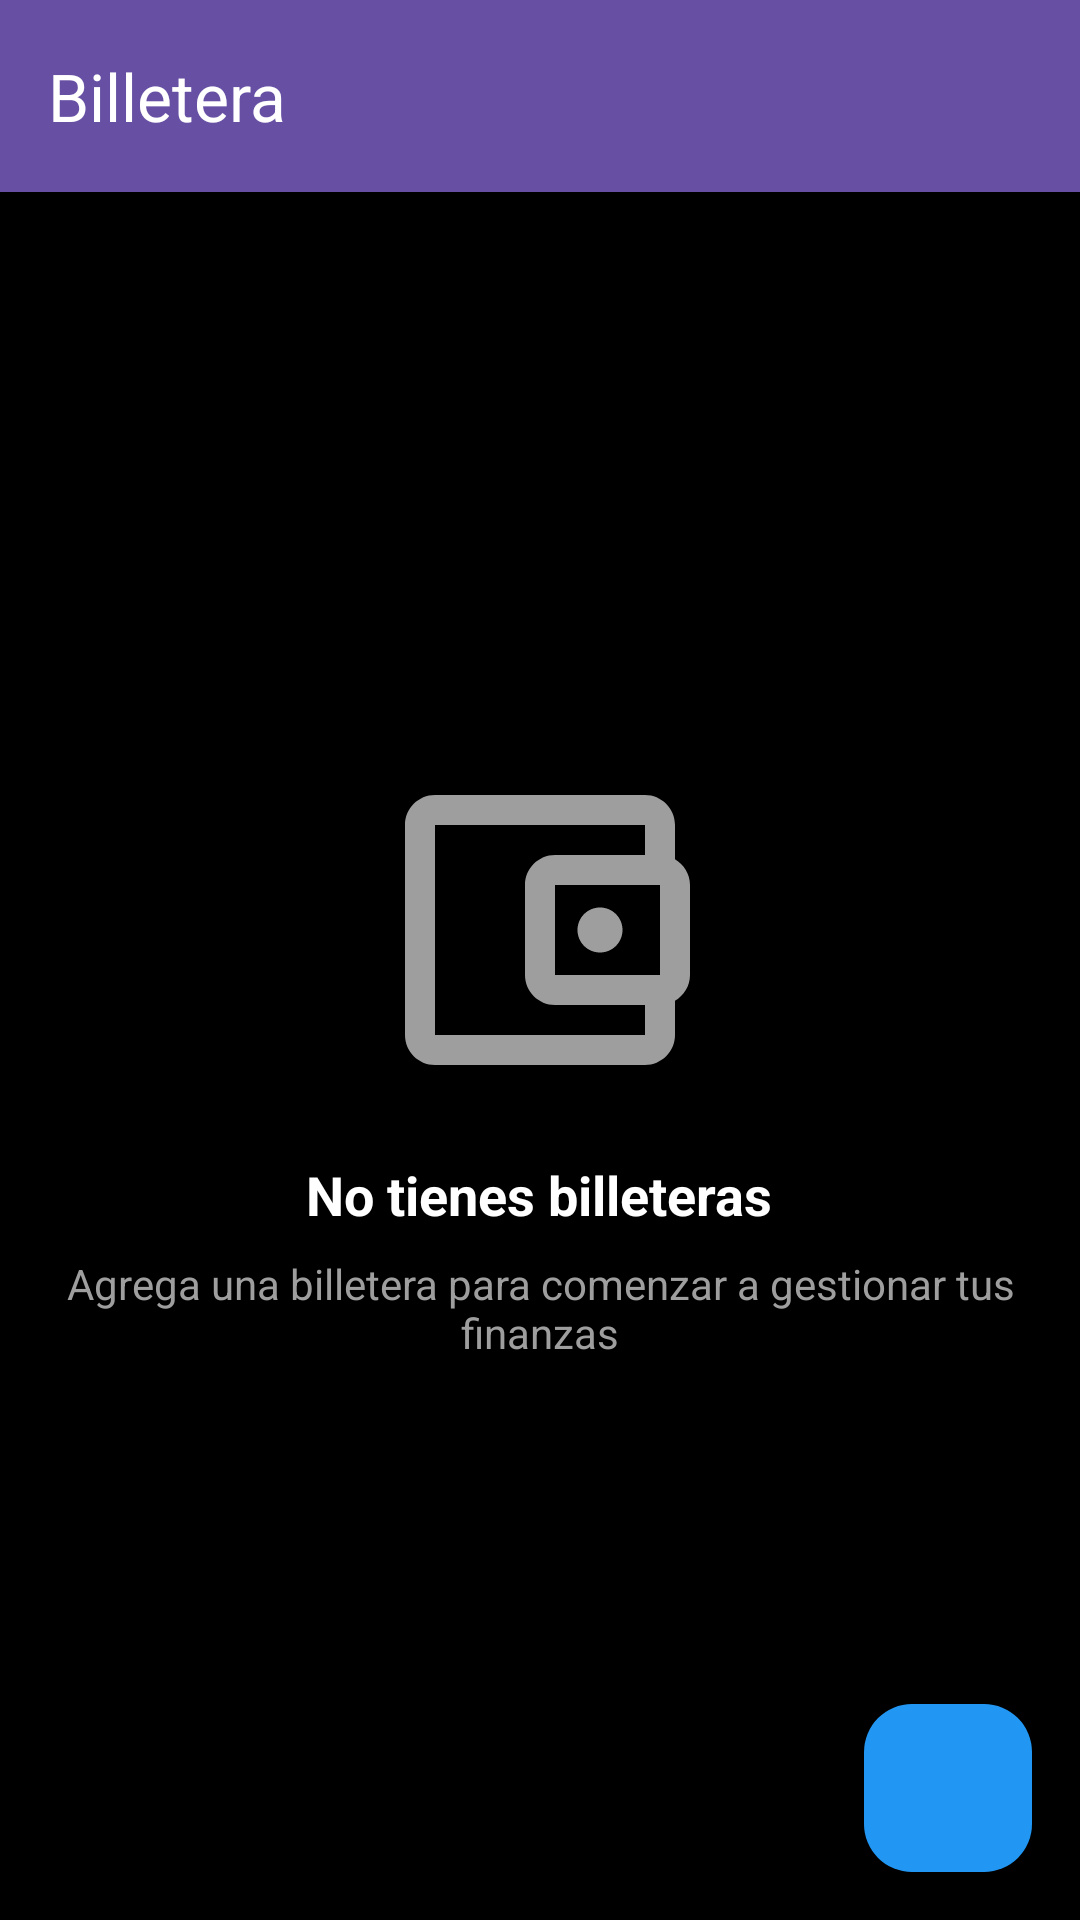

Icon bounding boxes for this 1080w x 1920h phone screenshot, format (x1, y1, x2, y2):
wallet: (405, 795, 690, 1065)
